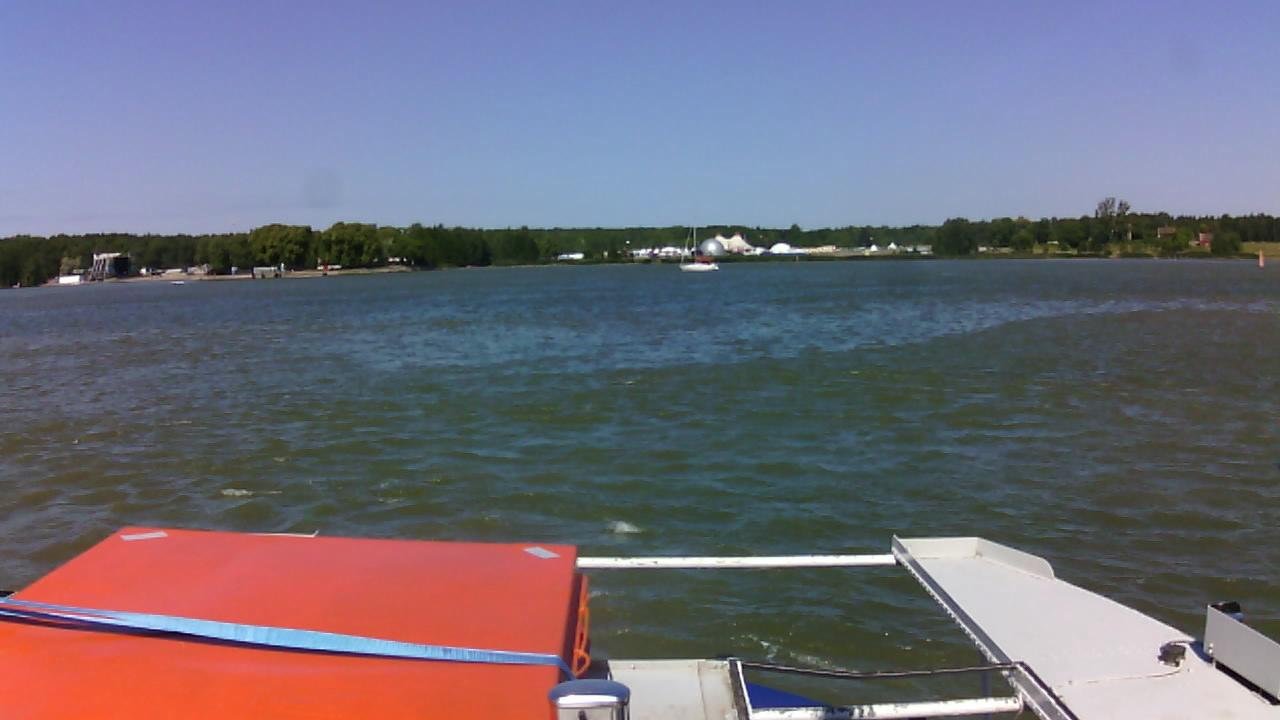Ship: (680, 223, 720, 274)
